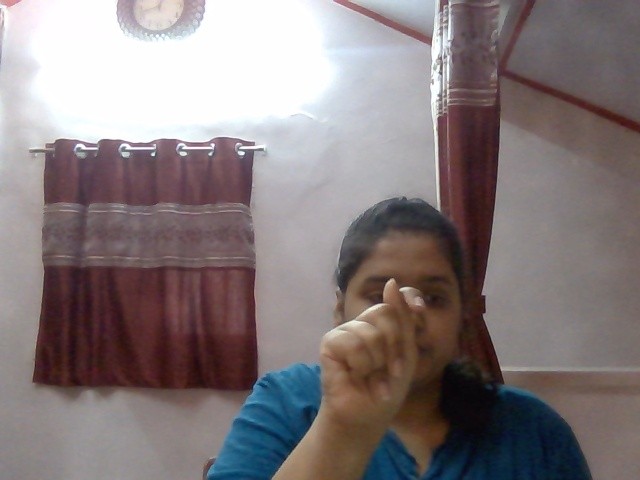t: (307, 275, 442, 430)
